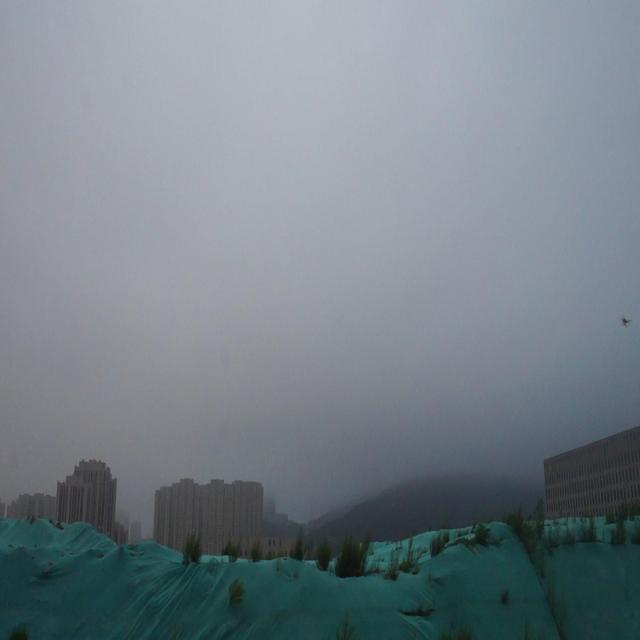UAV: (620, 316, 632, 328)
